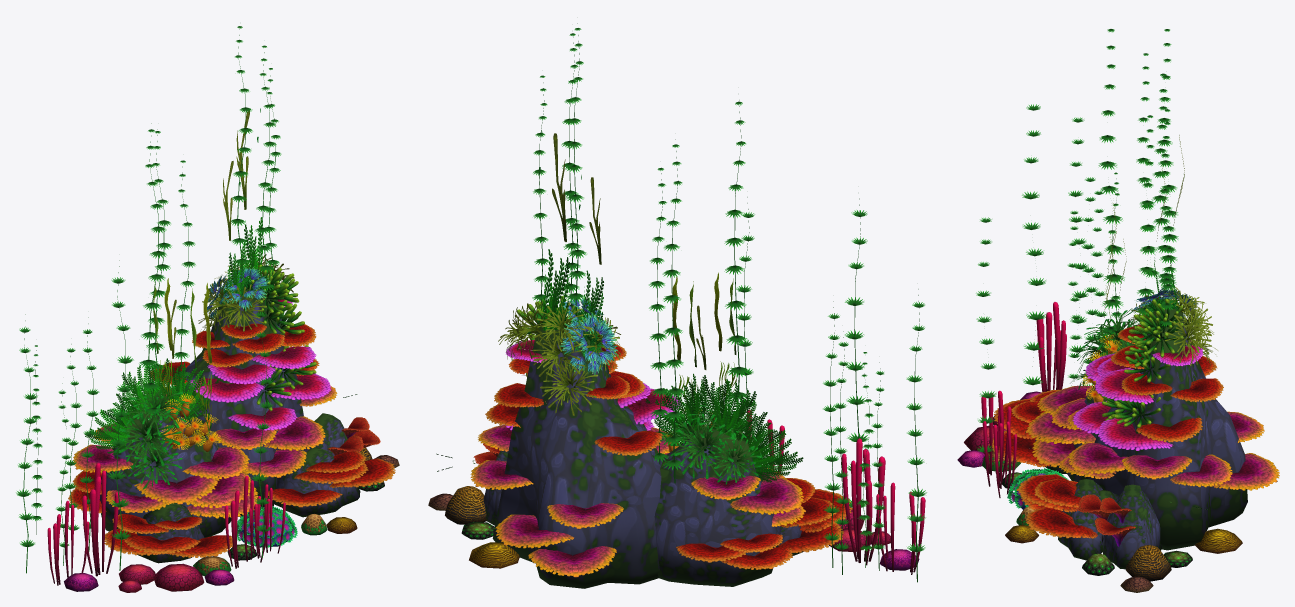
Rendered from CoralSet_14.FBX.
The picture shows the model from 3 angles, left to right: view 1: azimuth 30°, elevation 25°; view 2: azimuth 150°, elevation 25°; view 3: azimuth 270°, elevation 25°; orthographic projection. The views are drawn at different scales.
Parts seen in each view (by area): view 1: Set_14, Set_14_Part81, Set_14_Part82, Set_14_Part68, Set_14_Part05, Set_14_Part03, Set_14_Part45, Set_14_Part27, Set_14_Part76, Set_14_Part52, Set_14_Part50, Set_14_Part21 (+31 smaller); view 2: Set_14, Set_14_Part81, Set_14_Part82, Set_14_Part05, Set_14_Part03, Set_14_Part53, Set_14_Part52, Set_14_Part086, Set_14_Part11, Set_14_Part18, Set_14_Part23, Set_14_Part80 (+21 smaller); view 3: Set_14, Set_14_Part81, Set_14_Part82, Set_14_Part68, Set_14_Part05, Set_14_Part03, Set_14_Part04, Set_14_Part50, Set_14_Part06, Set_14_Part16, Set_14_Part30, Set_14_Part73 (+22 smaller).
Part boxes in pixels (bbox=[...]): Set_14: bbox=[99, 284, 360, 537]; Set_14_Part81: bbox=[73, 385, 337, 518]; Set_14_Part82: bbox=[68, 451, 395, 557]; Set_14_Part68: bbox=[189, 346, 330, 430]; Set_14_Part05: bbox=[150, 323, 319, 385]; Set_14_Part03: bbox=[82, 463, 119, 576]; Set_14_Part45: bbox=[160, 393, 221, 451]; Set_14_Part27: bbox=[111, 401, 181, 473]; Set_14_Part76: bbox=[137, 503, 204, 563]; Set_14_Part52: bbox=[84, 393, 139, 455]; Set_14_Part50: bbox=[224, 476, 270, 568]; Set_14_Part21: bbox=[237, 506, 297, 547]; Set_14: bbox=[483, 322, 781, 588]; Set_14_Part81: bbox=[470, 424, 806, 577]; Set_14_Part82: bbox=[676, 478, 852, 569]; Set_14_Part05: bbox=[485, 343, 662, 455]; Set_14_Part03: bbox=[841, 438, 885, 565]; Set_14_Part53: bbox=[699, 375, 756, 440]; Set_14_Part52: bbox=[739, 412, 803, 482]; Set_14_Part086: bbox=[559, 312, 618, 375]; Set_14_Part11: bbox=[538, 130, 569, 330]; Set_14_Part18: bbox=[662, 139, 685, 483]; Set_14_Part23: bbox=[670, 413, 736, 479]; Set_14_Part80: bbox=[645, 381, 709, 444]; Set_14: bbox=[1058, 308, 1247, 569]; Set_14_Part81: bbox=[1025, 385, 1279, 490]; Set_14_Part82: bbox=[989, 389, 1097, 538]; Set_14_Part68: bbox=[1072, 353, 1173, 450]; Set_14_Part05: bbox=[1110, 325, 1223, 442]; Set_14_Part03: bbox=[1036, 302, 1065, 392]; Set_14_Part04: bbox=[1077, 494, 1135, 546]; Set_14_Part50: bbox=[981, 390, 1011, 486]; Set_14_Part06: bbox=[1125, 545, 1171, 581]; Set_14_Part16: bbox=[1098, 29, 1124, 356]; Set_14_Part30: bbox=[1164, 310, 1211, 366]; Set_14_Part73: bbox=[1022, 104, 1046, 396].
Bounding box in the file's own units: 154 × 170 × 98.92.
